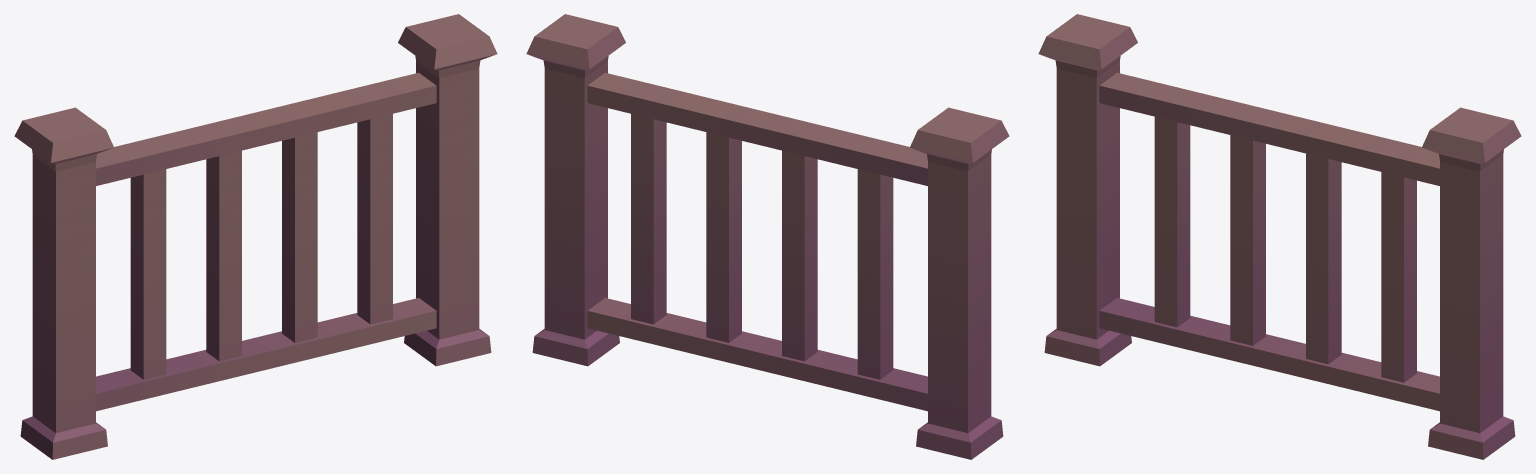
Rendered from fence003.obj.
3 views of the same model, side by side, from view 1: azimuth 30°, elevation 25°; view 2: azimuth 150°, elevation 25°; view 3: azimuth 330°, elevation 25° (orthographic).
Parts seen in each view (by area): view 1: fence.003; view 2: fence.003; view 3: fence.003.
Part boxes in pixels (box(x1,y1,x2,y2)): fence.003: box(14, 14, 497, 459); fence.003: box(526, 14, 1009, 459); fence.003: box(1038, 14, 1521, 459).
Size of the model in its own units: 4.43 by 3 by 0.6277.
Materials: 1 (1 with a texture image).
